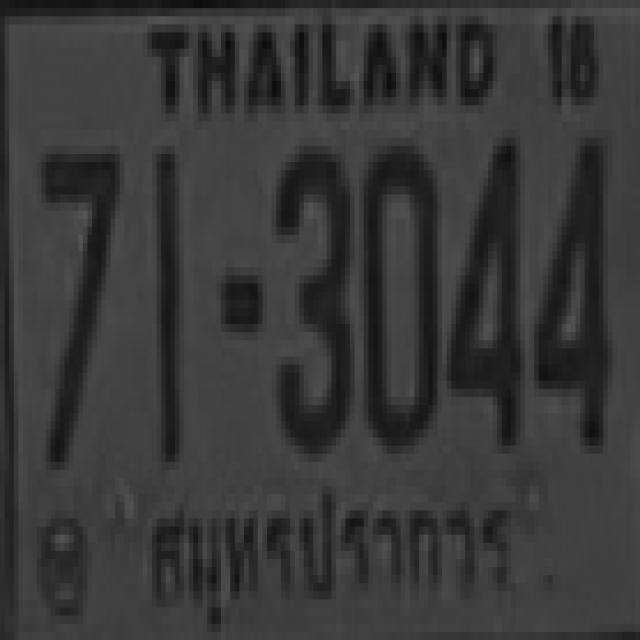0: (362, 137, 435, 446)
1: (152, 142, 180, 458)
3: (272, 137, 350, 446)
4: (529, 134, 608, 442), (446, 130, 516, 438)
7: (37, 146, 115, 462)
SamutPrakan: (139, 478, 527, 627)
